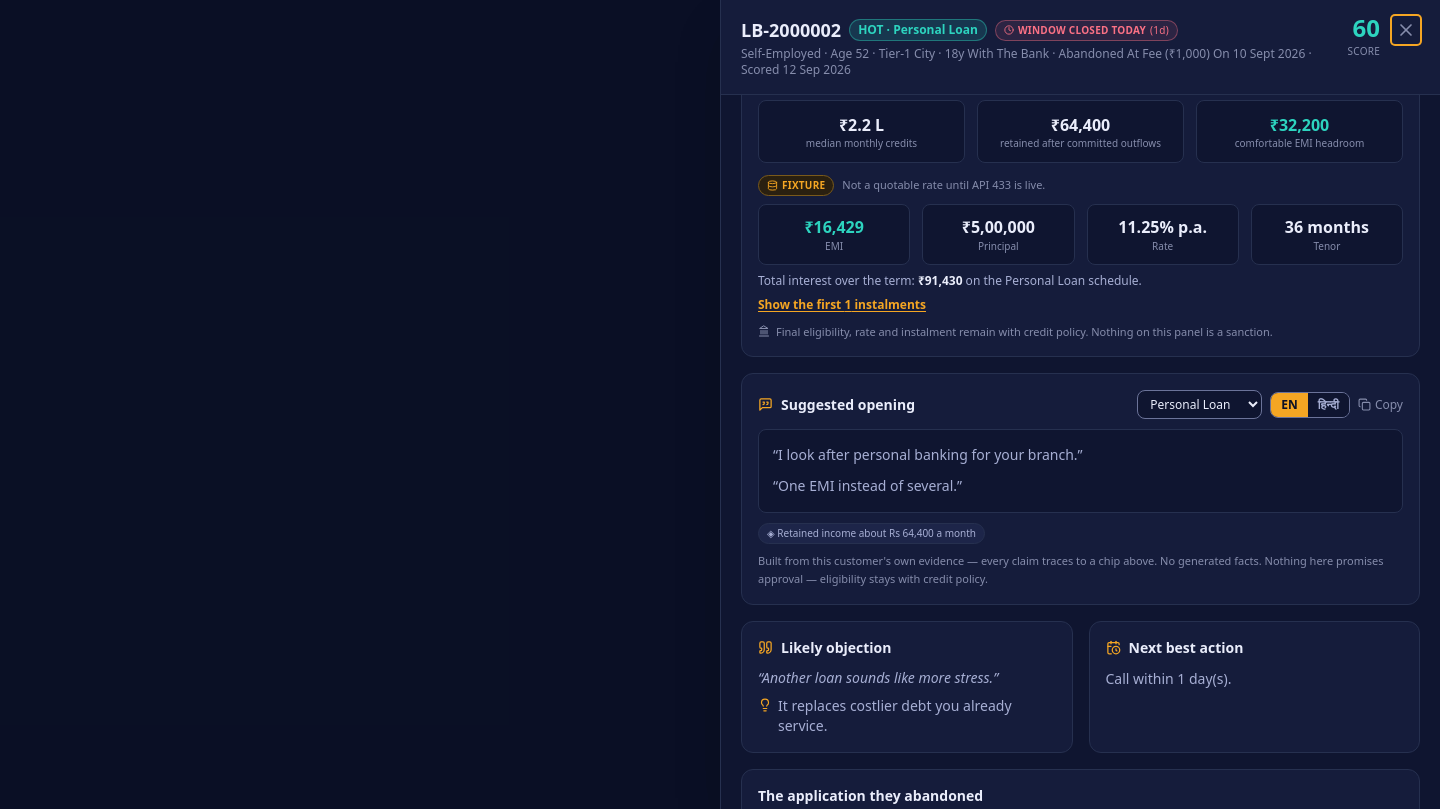
Test case: LeadDrawer — the briefing › marks a script for another menu product as generic, not as this customer’s evidence
(page scrolled)
Check: the element with test id "pitch-body" is shown, box [758,429,1403,513]
Check: the text "every claim traces to a chip above" is shown, box [758,553,1262,568]
Select "Gold Loan" in the dropdown named "Product for the script" at {"x": 1200, "y": 405}, box [1137,390,1262,419]
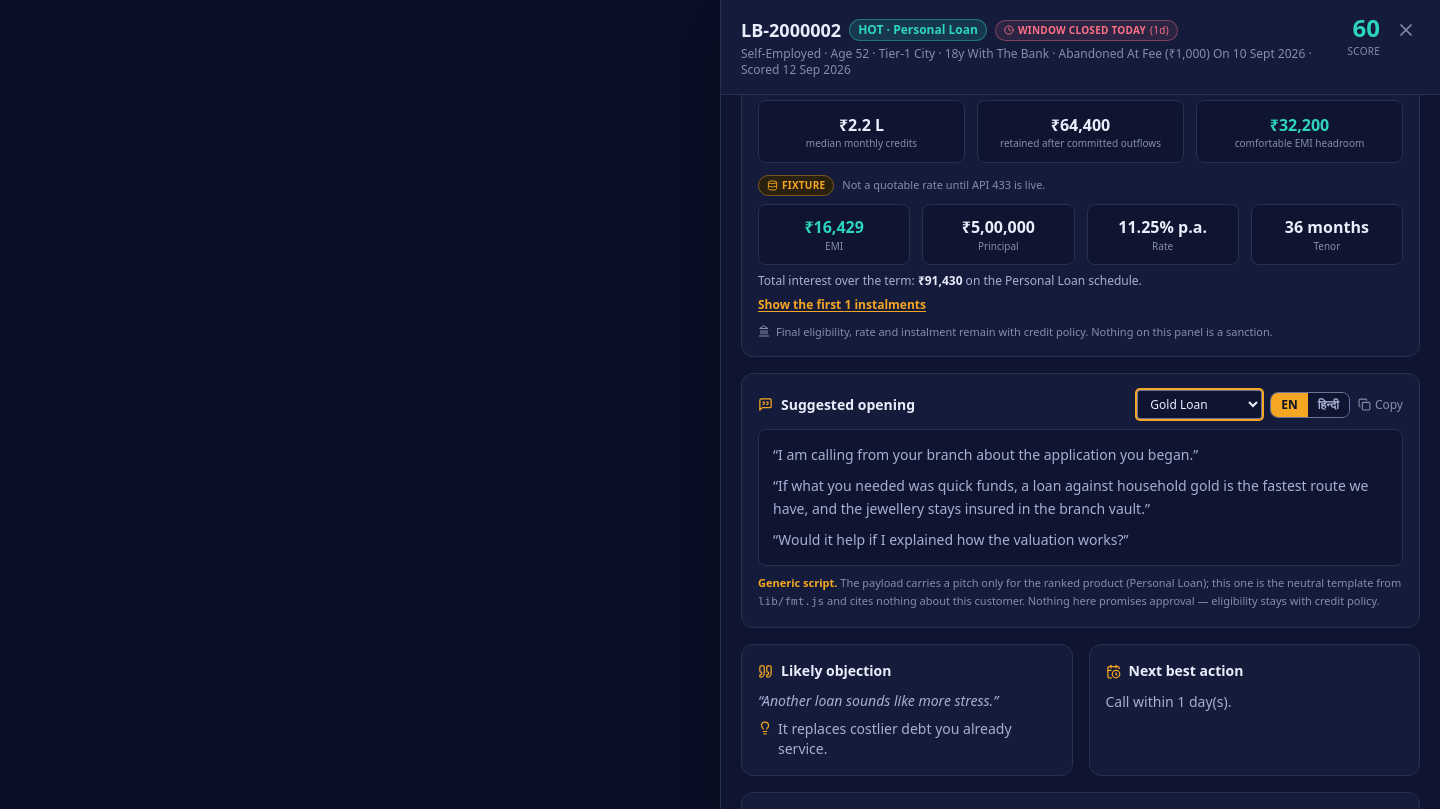
Check: the text "Generic script." is shown, box [758,575,837,590]
Check: the text "cites nothing about this customer" is shown, box [824,593,1025,608]
